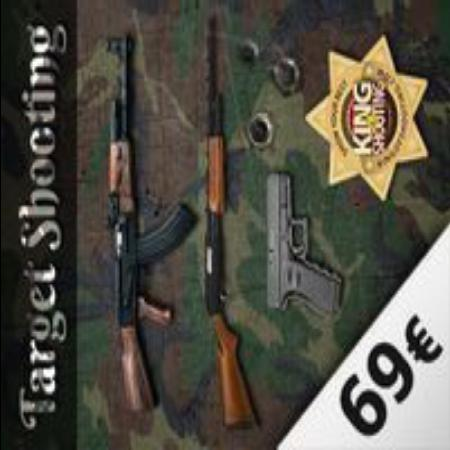2: (81, 31, 195, 433), (187, 13, 258, 444)
Pistol: (257, 172, 346, 317)
